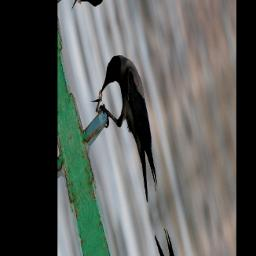Crow: (92, 35, 166, 226)
